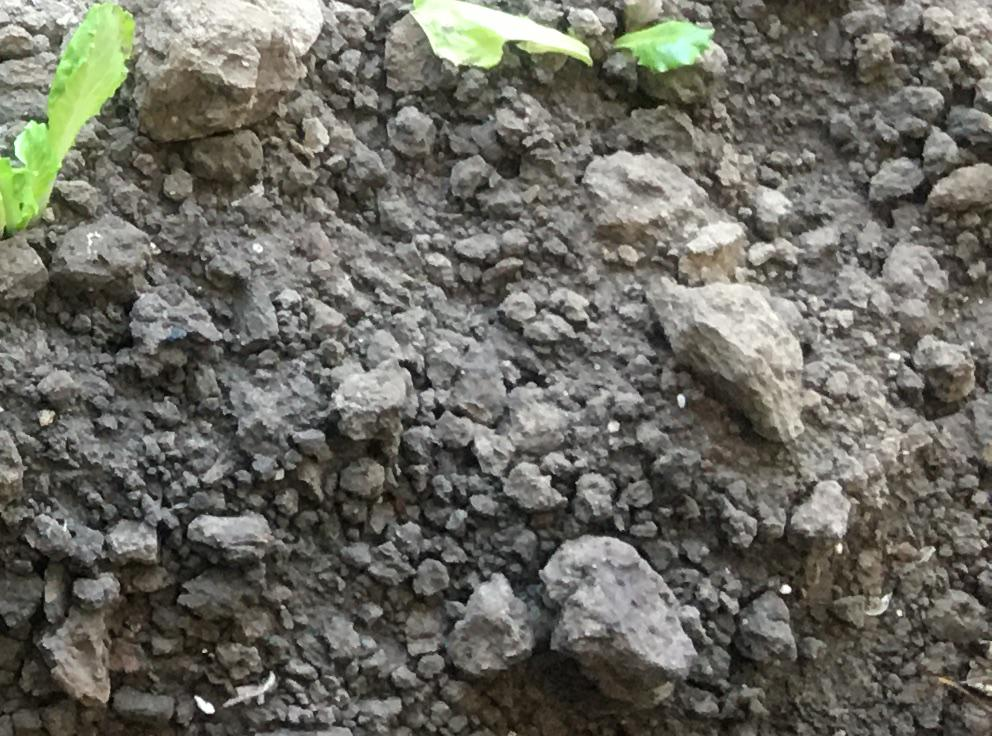block: (645, 269, 817, 440), (133, 1, 333, 143), (540, 529, 687, 707)
